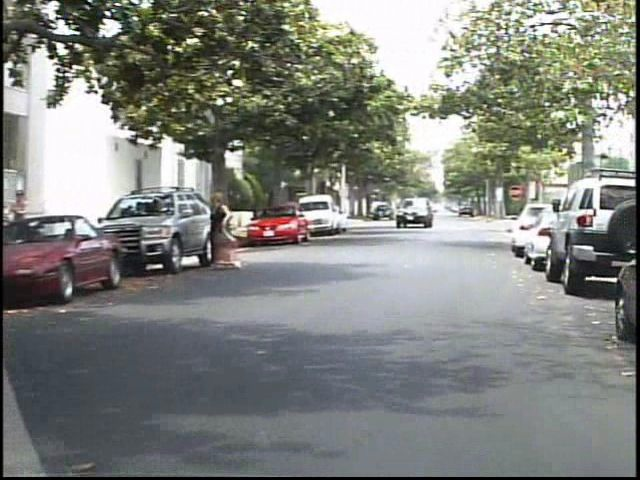person: (214, 189, 248, 276)
